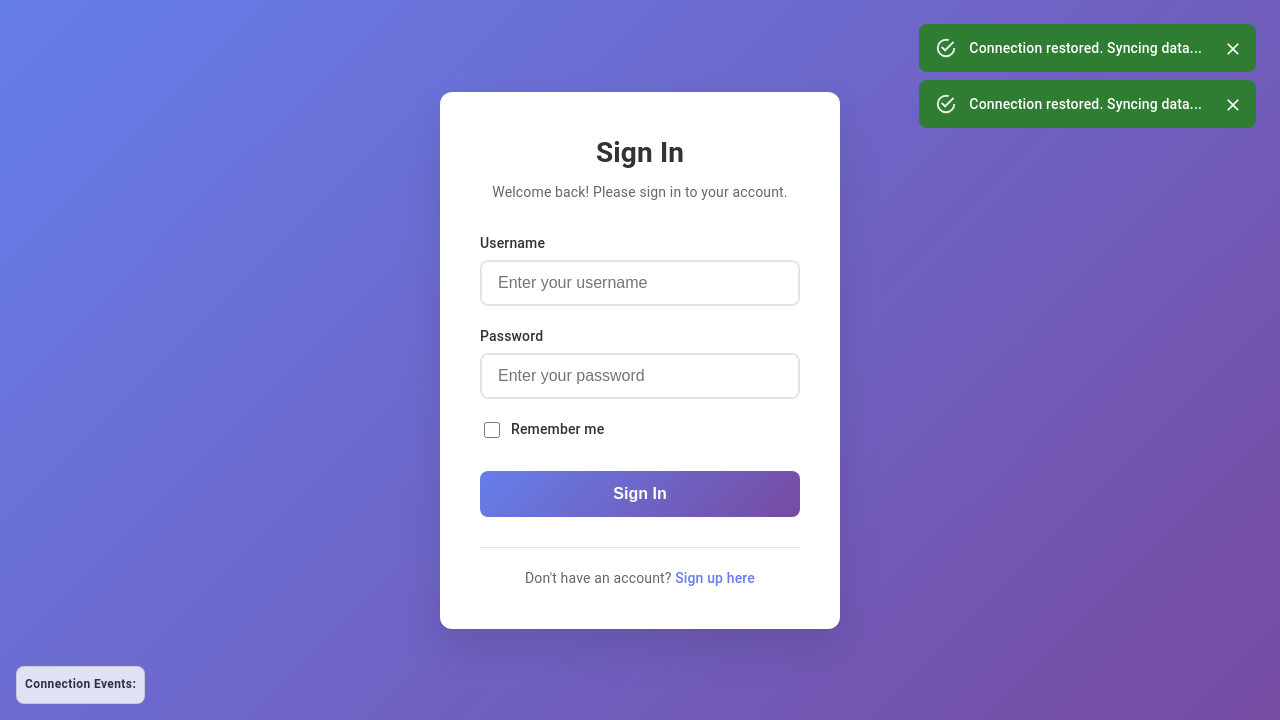
Authentication Flow › Login Page › should show validation errors for short inputs
// Enter short username and password
In the field with id "username": (640, 283) 480,260 -> 800,306, type "ab"
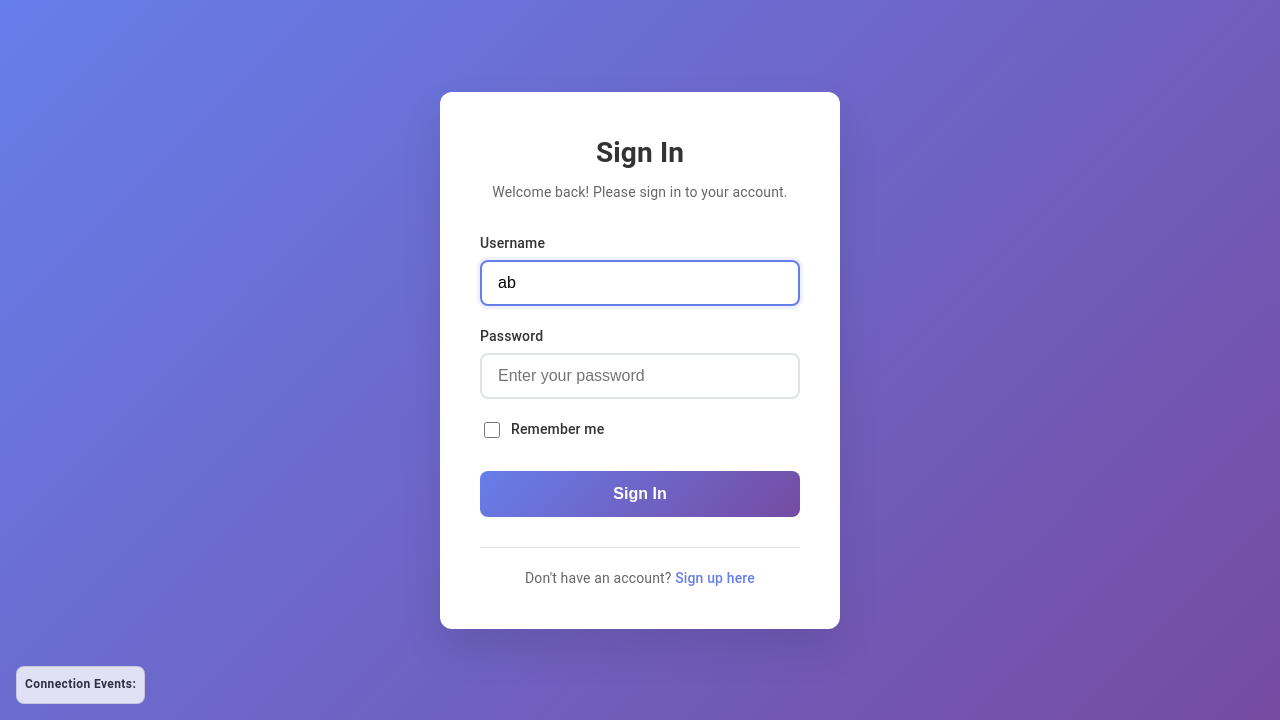
In the password field labelled "Password": (640, 376) 480,353 -> 800,399, type "123"
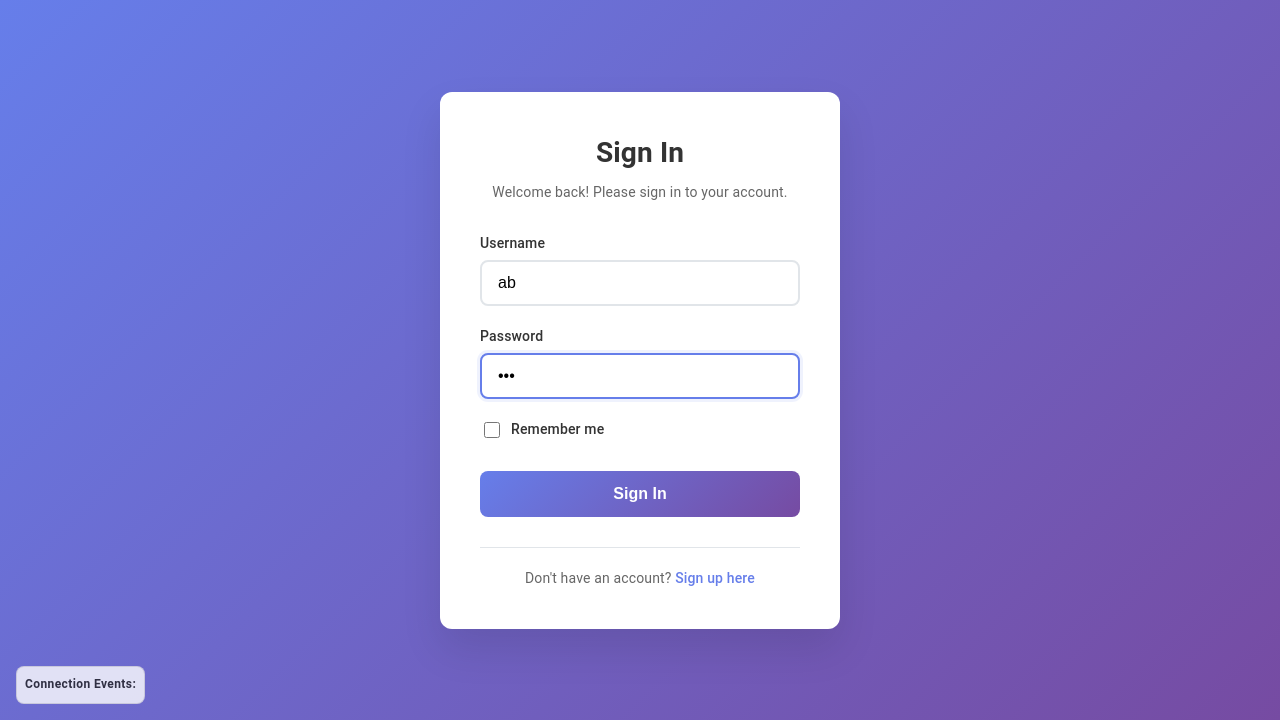
Click the button with class "login-button": (640, 494) 480,471 -> 800,517
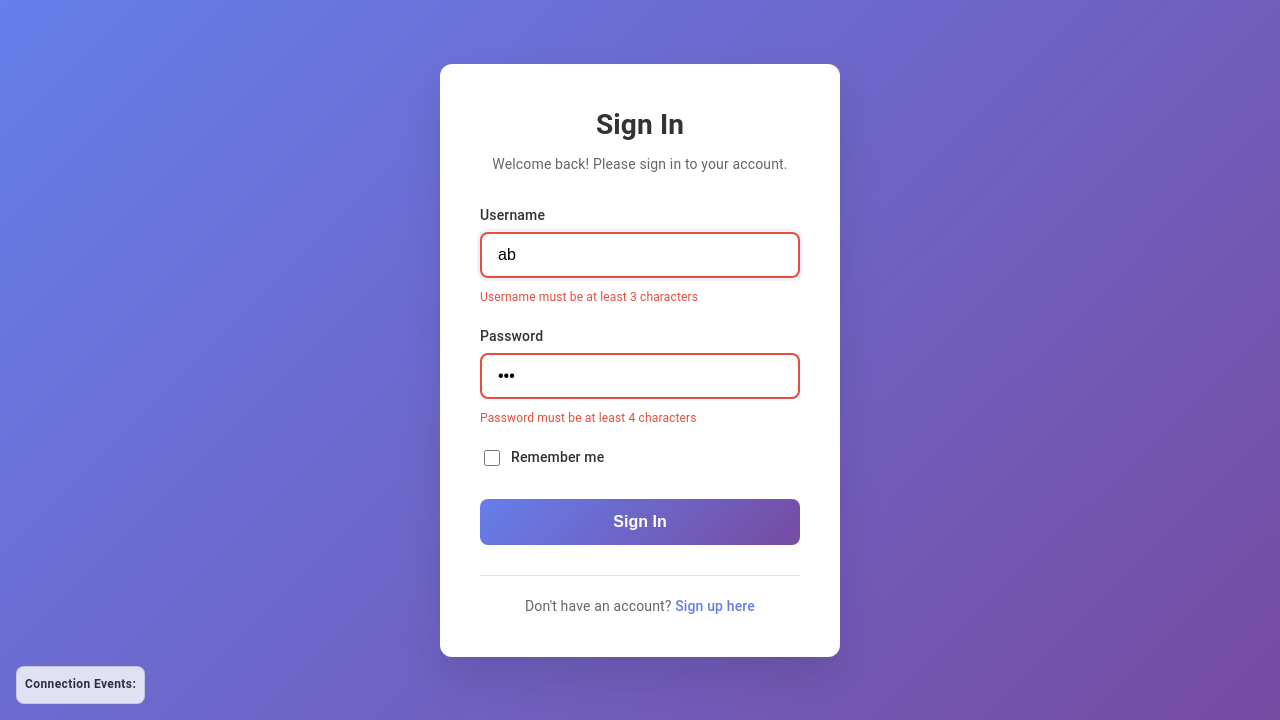
Expected: the text "Username must be at least 3 characters" is shown, 480,290 -> 698,304
Expected: the text "Password must be at least 4 characters" is shown, 480,410 -> 697,424
